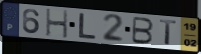2: (101, 13, 125, 43)
6: (22, 9, 42, 35)
B: (131, 16, 155, 46)
H: (45, 8, 69, 40)
L: (78, 12, 98, 41)
T: (159, 19, 178, 47)
